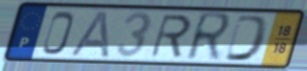0: (41, 10, 77, 56)
3: (116, 10, 156, 60)
A: (68, 10, 111, 60)
D: (221, 14, 271, 63)
R: (183, 11, 234, 64), (148, 13, 194, 60)
